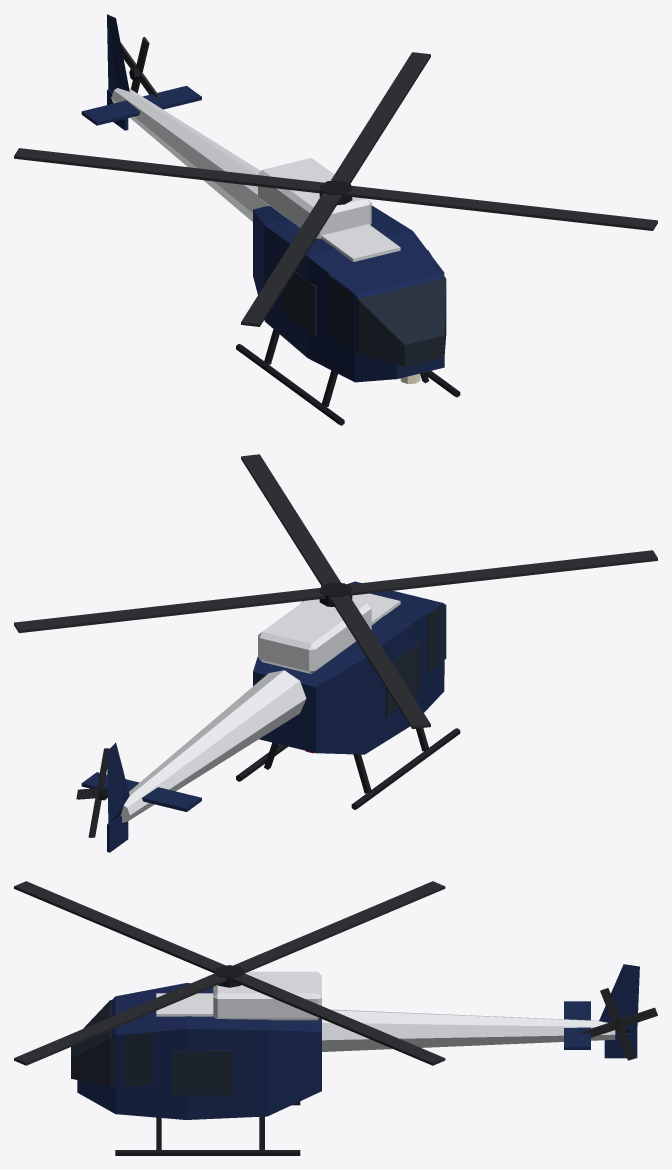
File: heli.glb
3 views of the same model, one above another, from view 1: azimuth 30°, elevation 25°; view 2: azimuth 150°, elevation 25°; view 3: azimuth 270°, elevation 25° (orthographic). The views are drawn at different scales.
Visible parts, largest first — view 1: heli_pod, heli_rotor_main, heli_canopy, heli_boom, heli_engine, heli_roofstripe, heli_stabiliser, heli_door-1, heli_fin, heli_skid-1, heli_rotor_tail; view 2: heli_pod, heli_rotor_main, heli_boom, heli_engine, heli_stabiliser, heli_fin, heli_door-1, heli_skid-1, heli_canopy, heli_rotor_tail, heli_roofstripe, heli_ventral; view 3: heli_pod, heli_rotor_main, heli_boom, heli_engine, heli_canopy, heli_door+1, heli_fin, heli_rotor_tail, heli_skid+1, heli_stabiliser, heli_roofstripe, heli_ventral.
Boxes of the visible parts, x1=… form: heli_pod: x1=253, y1=205, x2=444, y2=382; heli_rotor_main: x1=14, y1=52, x2=657, y2=326; heli_canopy: x1=328, y1=250, x2=446, y2=366; heli_boom: x1=111, y1=88, x2=269, y2=221; heli_engine: x1=258, y1=158, x2=371, y2=238; heli_roofstripe: x1=321, y1=224, x2=400, y2=261; heli_stabiliser: x1=81, y1=85, x2=201, y2=125; heli_door-1: x1=281, y1=271, x2=316, y2=336; heli_fin: x1=107, y1=14, x2=129, y2=92; heli_skid-1: x1=236, y1=344, x2=344, y2=425; heli_rotor_tail: x1=120, y1=37, x2=160, y2=98; heli_pod: x1=253, y1=581, x2=444, y2=754; heli_rotor_main: x1=14, y1=454, x2=657, y2=728; heli_boom: x1=120, y1=670, x2=306, y2=822; heli_engine: x1=258, y1=599, x2=371, y2=673; heli_stabiliser: x1=81, y1=772, x2=201, y2=811; heli_fin: x1=107, y1=742, x2=129, y2=824; heli_door-1: x1=385, y1=642, x2=420, y2=715; heli_skid-1: x1=351, y1=728, x2=460, y2=809; heli_canopy: x1=427, y1=604, x2=446, y2=672; heli_rotor_tail: x1=76, y1=748, x2=109, y2=837; heli_roofstripe: x1=352, y1=593, x2=400, y2=624; heli_ventral: x1=107, y1=816, x2=128, y2=852; heli_pod: x1=77, y1=983, x2=321, y2=1119; heli_rotor_main: x1=14, y1=881, x2=445, y2=1065; heli_boom: x1=322, y1=1009, x2=615, y2=1051; heli_engine: x1=213, y1=971, x2=321, y2=1020; heli_canopy: x1=71, y1=1000, x2=153, y2=1086; heli_door+1: x1=172, y1=1050, x2=232, y2=1095; heli_fin: x1=599, y1=964, x2=639, y2=1032; heli_rotor_tail: x1=580, y1=988, x2=657, y2=1060; heli_skid+1: x1=115, y1=1150, x2=300, y2=1155; heli_stabiliser: x1=564, y1=1001, x2=590, y2=1049; heli_roofstripe: x1=156, y1=993, x2=213, y2=1016; heli_ventral: x1=604, y1=1033, x2=637, y2=1058.
Bounding box in the file's own units: 7.93 × 3.38 × 11.85.
